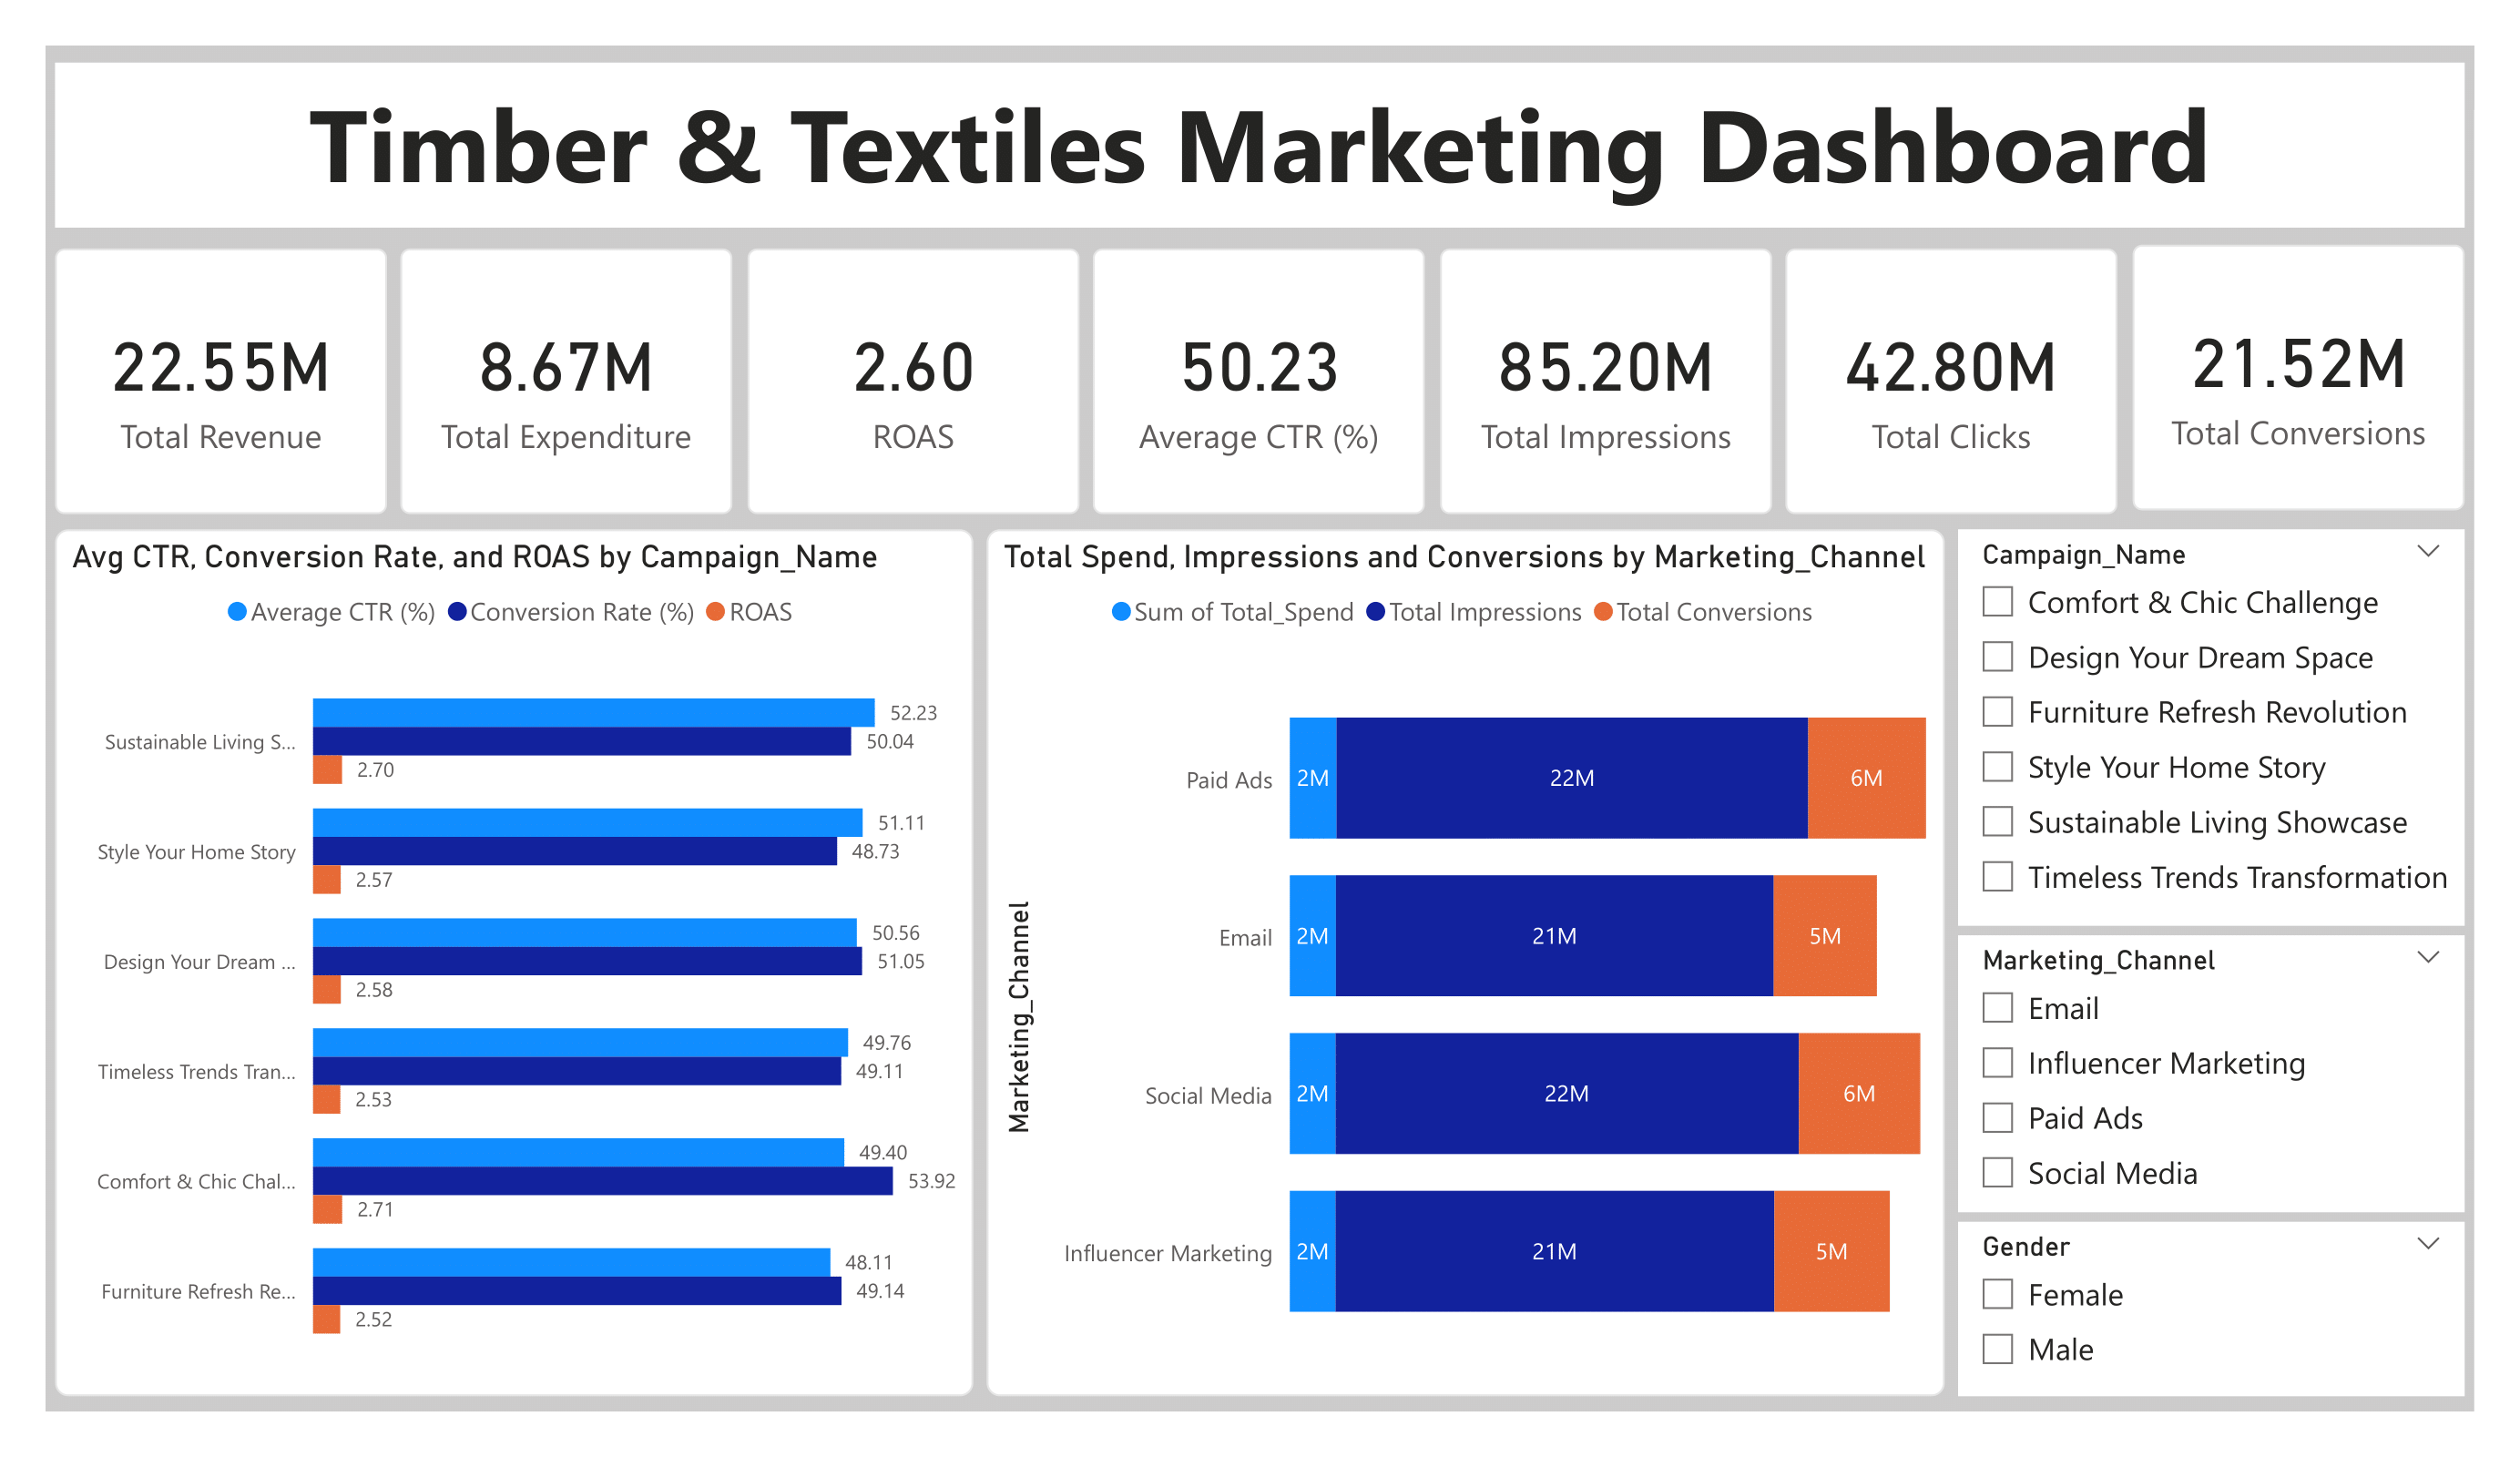

Layout of this report page (visuals, bound fields, positions):
{"tool":"powerbi","page":{"name":"Page 1","canvas":[1280,720],"ordinal":0},"visuals":[{"type":"card","fields":{"Values":["Measure Table.Total Impressions"]},"box":[734.8,106.6,175,140],"z":0},{"type":"card","fields":{"Values":["Measure Table.Total Clicks"]},"box":[917.3,106.6,175,140],"z":1000},{"type":"card","fields":{"Values":["Measure Table.Total Conversions"]},"box":[1099.7,105.3,175.4,140],"z":2000},{"type":"card","fields":{"Values":["Measure Table.Total Expenditure"]},"box":[187.4,106.6,175,140],"z":3000},{"type":"card","fields":{"Values":["Measure Table.Total Revenue"]},"box":[4.9,106.6,175,140],"z":4000},{"type":"card","fields":{"Values":["Measure Table.Average CTR (%)"]},"box":[552.3,106.6,175,140],"z":5000},{"type":"card","fields":{"Values":["Measure Table.Return on Advertising Spend (ROAS)"]},"box":[369.8,106.6,175,140],"z":6000},{"type":"clusteredBarChart","title":"Avg CTR, Conversion Rate, and ROAS by Campaign_Name","fields":{"Category":["Campaign_Data.Campaign_Name"],"Y":["Measure Table.Average CTR (%)","Measure Table.Conversion Rate (%)","Measure Table.Return on Advertising Spend (ROAS)"]},"box":[5.2,255.5,483.7,456.5],"z":7000},{"type":"textbox","box":[5.2,9.1,1269.6,86.9],"z":8000},{"type":"barChart","title":"Total Spend, Impressions and Conversions by Marketing_Channel","fields":{"Y":["Sum(Campaign_Data.Total_Spend)","Measure Table.Total Impressions","Measure Table.Total Conversions"],"Category":["Campaign_Data.Marketing_Channel"]},"box":[495.8,255.5,505,456.5],"z":9000},{"type":"slicer","fields":{"Values":["Campaign_Data.Campaign_Name"]},"box":[1007.7,255.5,267.2,208.8],"z":10000},{"type":"slicer","fields":{"Values":["Campaign_Data.Marketing_Channel"]},"box":[1007.7,469.5,267.2,145.2],"z":11000},{"type":"slicer","fields":{"Values":["Campaign_Data.Gender"]},"box":[1007.7,619.9,267.2,92.1],"z":12000}]}

Visuals, with their boxes on the page's 1280x720 design canvas (x1, y1, x2, y2). These are canvas units, not pixel positions in the 2520x1457 screenshot, which may show the page scaled, cropped or inside an application window:
card - Measure Table.Total Impressions: 735, 107, 910, 247
card - Measure Table.Total Clicks: 917, 107, 1092, 247
card - Measure Table.Total Conversions: 1100, 105, 1275, 245
card - Measure Table.Total Expenditure: 187, 107, 362, 247
card - Measure Table.Total Revenue: 5, 107, 180, 247
card - Measure Table.Average CTR (%): 552, 107, 727, 247
card - Measure Table.Return on Advertising Spend (ROAS): 370, 107, 545, 247
"Avg CTR, Conversion Rate, and ROAS by Campaign_Name" clusteredBarChart: 5, 256, 489, 712
textbox: 5, 9, 1275, 96
"Total Spend, Impressions and Conversions by Marketing_Channel" barChart: 496, 256, 1001, 712
slicer - Campaign_Data.Campaign_Name: 1008, 256, 1275, 464
slicer - Campaign_Data.Marketing_Channel: 1008, 470, 1275, 615
slicer - Campaign_Data.Gender: 1008, 620, 1275, 712
